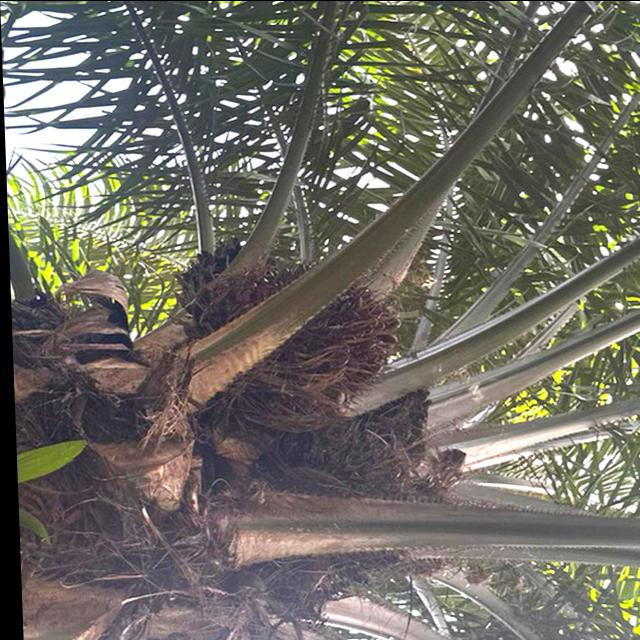ripe: (212, 265, 412, 427)
